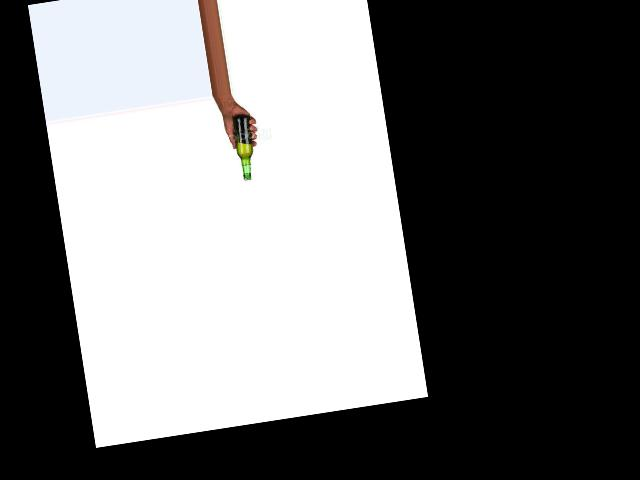beer: (230, 114, 257, 181)
